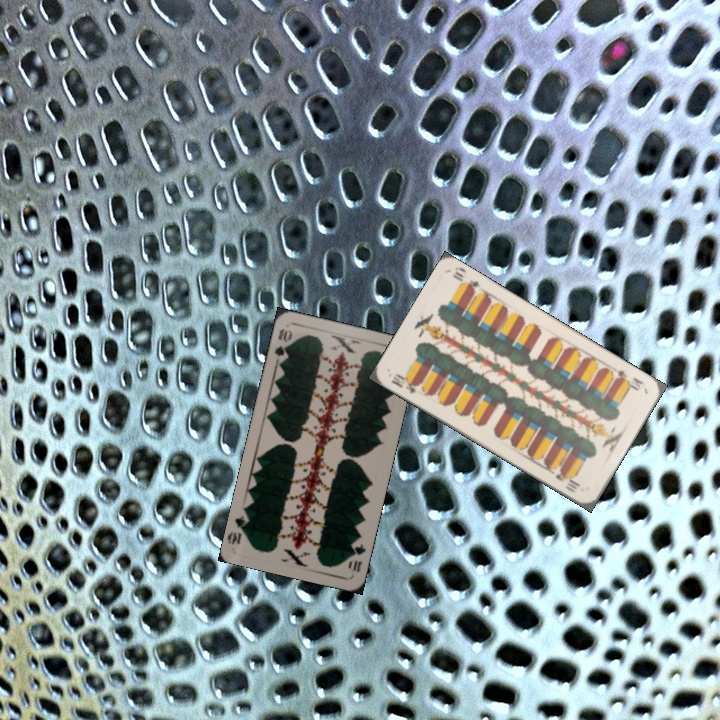E10: (612, 366, 648, 393), (387, 369, 421, 396)
G10: (270, 324, 295, 365), (346, 535, 368, 575)
